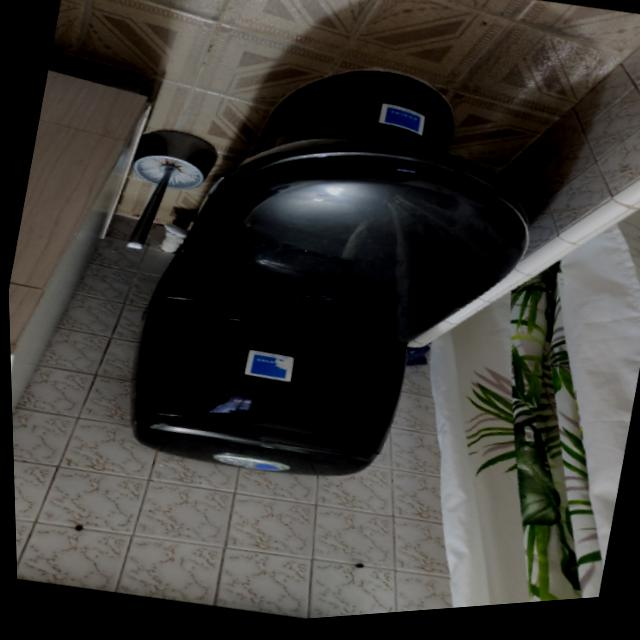toilet: (106, 24, 564, 530)
